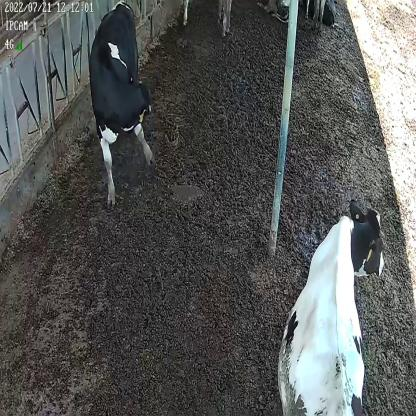cow: (276, 195, 386, 416), (88, 0, 155, 210)
